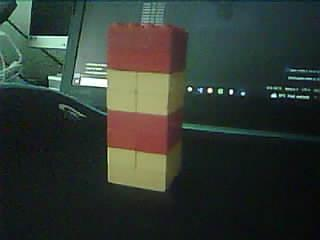lego: (106, 20, 189, 194)
